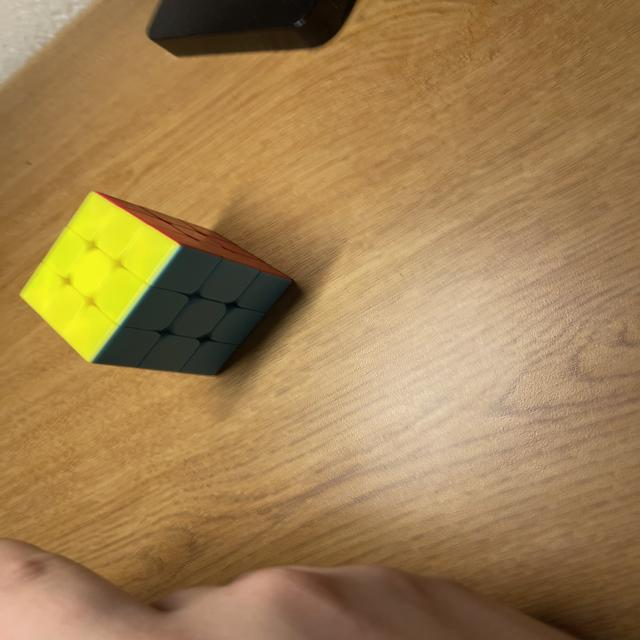Rubiks Cube: (17, 191, 291, 375)
